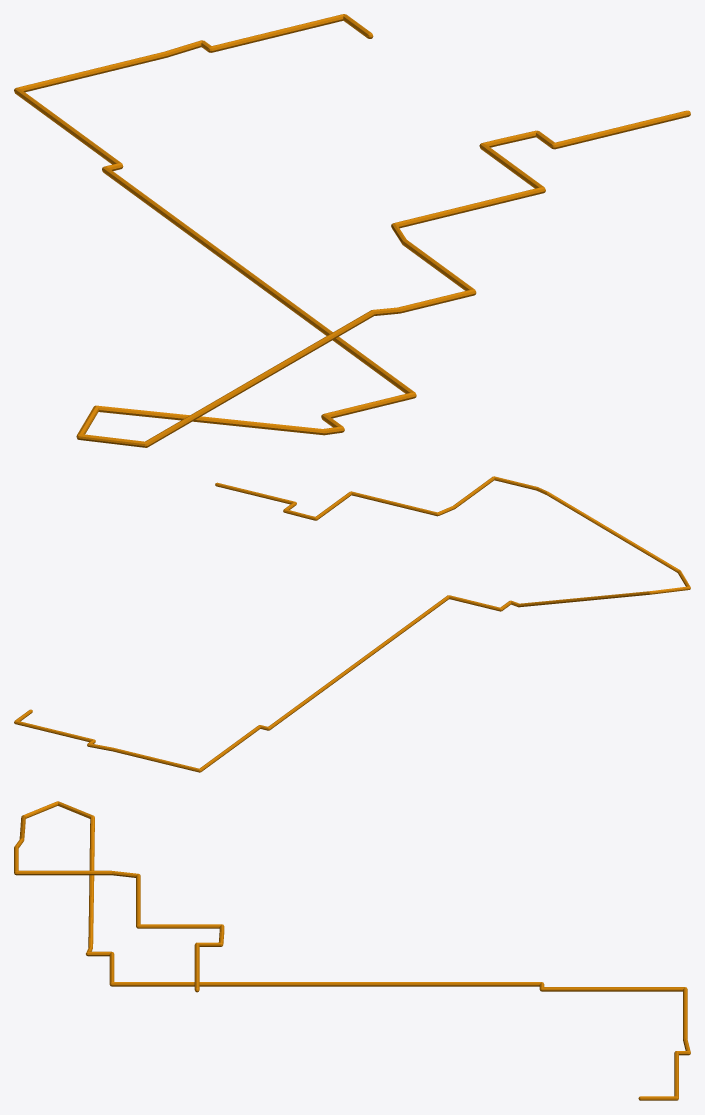
3 renders of one model, top to bottom at view 1: azimuth 30°, elevation 25°; view 2: azimuth 150°, elevation 25°; view 3: azimuth 270°, elevation 25°, orthographic. The views are drawn at different scales.
Bounding box in the file's own units: 2407 × 520 × 2834.
